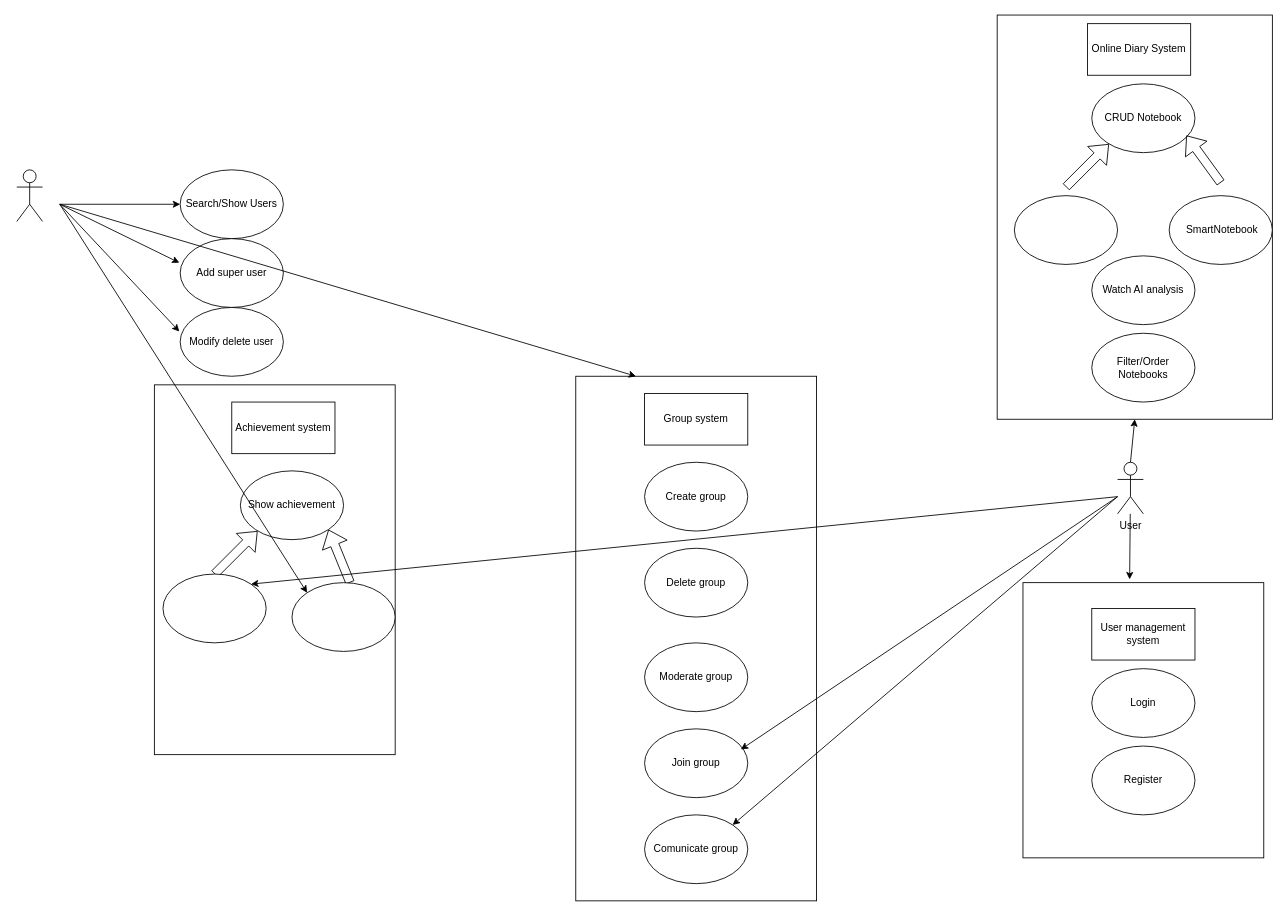
This 1287x916 diagram has some shape labels left out. The shapes that lost their labels are listed below. From the top down, each one's centre as x and y in pixels, then its label:
At point (29, 195): "Admin".
At point (1066, 229): "MyNotebook".
At point (214, 608): "Show my achievements".
At point (343, 616): "Show users achievements".
